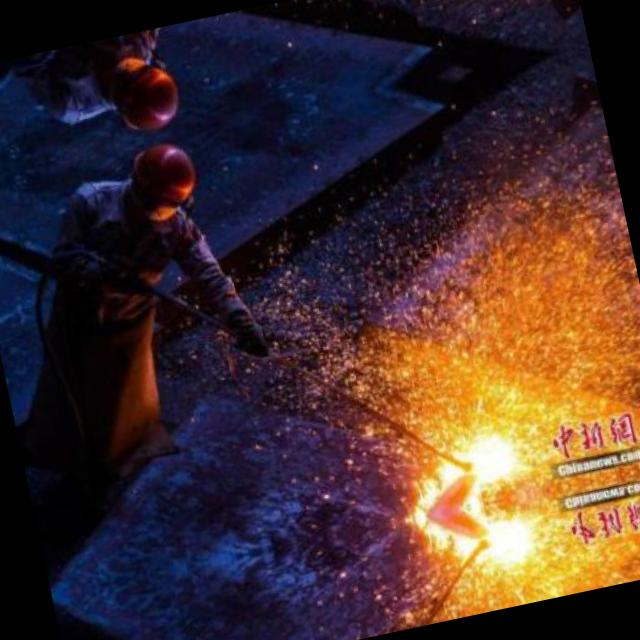helmet: (120, 136, 204, 220), (103, 54, 187, 138)
